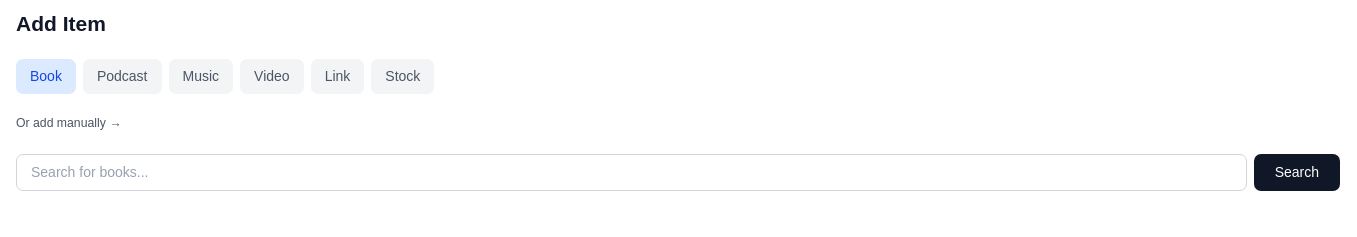
Test: AddItemForm › Video Mode › shows URL input for video type
Click the button "Video" at [272, 76], box [240, 59, 304, 94]
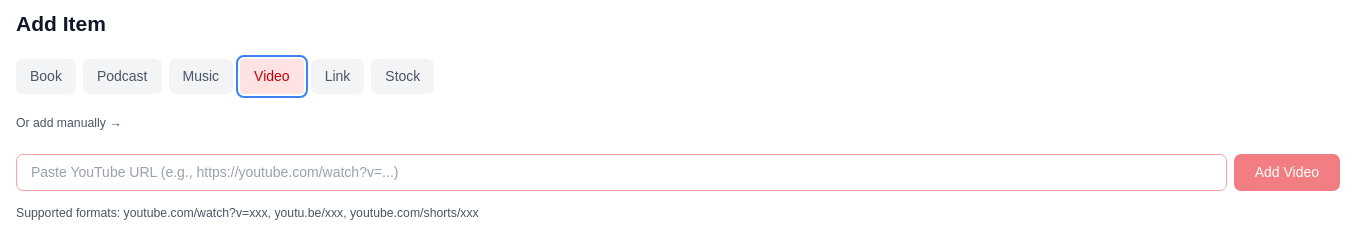
Check: the field with placeholder "Paste YouTube URL (e.g., https://youtube.com/watch?v=...)" is shown, box [16, 154, 1227, 190]
